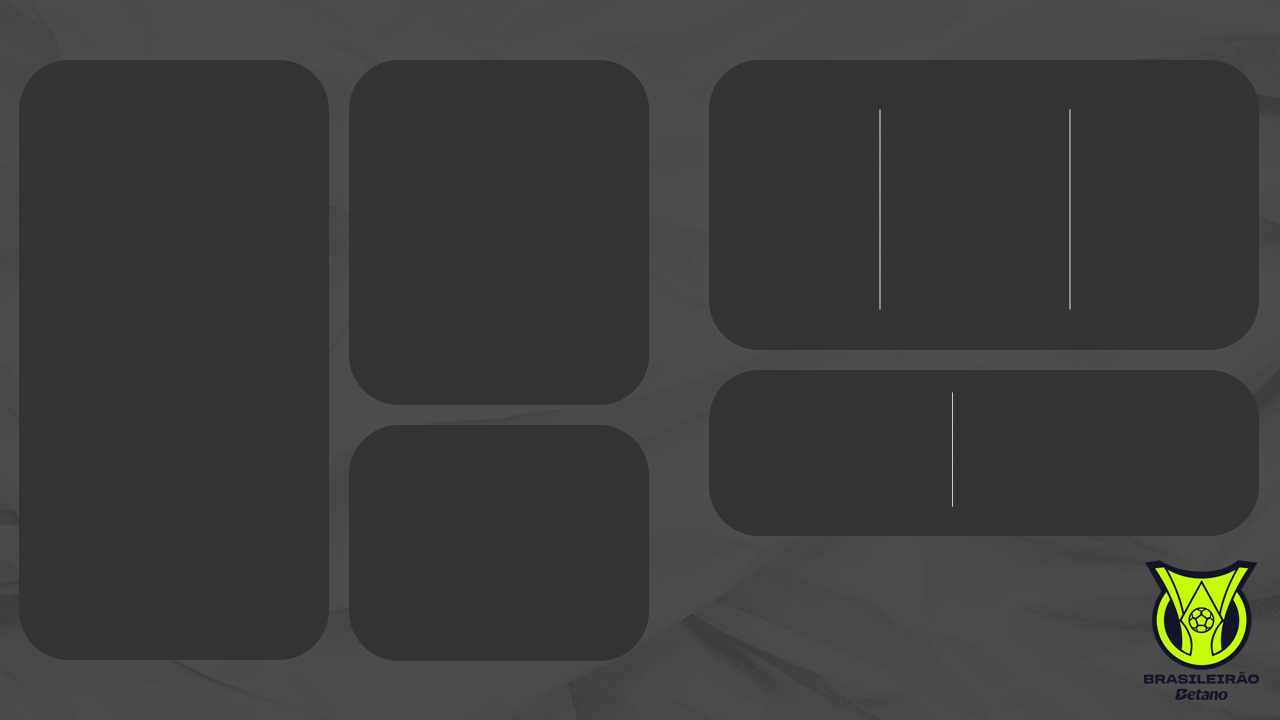

The dashboard page shown, as its layout file describes it:
{"tool":"powerbi","page":{"name":"TIMES","canvas":[1280,720],"ordinal":1},"visuals":[{"type":"tableEx","fields":{"Values":["tabela.Time","select","select1"]},"box":[66.2,83.5,213.1,564.5],"z":0},{"type":"pieChart","title":"Cartões","fields":{"Y":["Sum(tabela.CV)","Sum(tabela.CA)"]},"box":[348.5,432,302.4,216],"z":1000},{"type":"clusteredBarChart","title":"Melhores saldos","fields":{"Category":["tabela.Time"],"Y":["Sum(tabela.SG)"]},"box":[358.6,83.5,280.8,293.8],"z":2000},{"type":"card","title":"Gols feitos","fields":{"Values":["select","select1","select2","tabela.GOLS FEITOS"]},"box":[708.5,388.8,244.8,118.1],"z":4000},{"type":"card","title":"Gols sofridos","fields":{"Values":["select","select1","select2","tabela.GOLS SOFRIDOS"]},"box":[953.3,388.8,303.8,118.1],"z":5000},{"type":"card","title":"Vitórias","fields":{"Values":["select","select1","select2","tabela.VITORIAS"]},"box":[708.5,103.7,171.4,204.5],"z":6000},{"type":"card","title":"Empates","fields":{"Values":["select","select1","select2","tabela.EMPATES"]},"box":[879.8,103.7,190.1,204.5],"z":7000},{"type":"card","title":"Derrotas","fields":{"Values":["select","select1","select2","tabela.DERROTAS"]},"box":[1069.9,103.7,187.2,204.5],"z":8000},{"type":"pageNavigator","box":[750.2,587.5,373,37.4],"z":9000}]}

Visuals, with their boxes in screenshot pixels (x1, y1, x2, y2), scaled from the page's 1280x720 canvas onto the 1280x720 screenshot:
tableEx - tabela.Time x select: bbox=[66, 84, 279, 648]
"Cartões" pieChart: bbox=[348, 432, 651, 648]
"Melhores saldos" clusteredBarChart: bbox=[359, 84, 639, 377]
"Gols feitos" card: bbox=[708, 389, 953, 507]
"Gols sofridos" card: bbox=[953, 389, 1257, 507]
"Vitórias" card: bbox=[708, 104, 880, 308]
"Empates" card: bbox=[880, 104, 1070, 308]
"Derrotas" card: bbox=[1070, 104, 1257, 308]
pageNavigator: bbox=[750, 588, 1123, 625]
